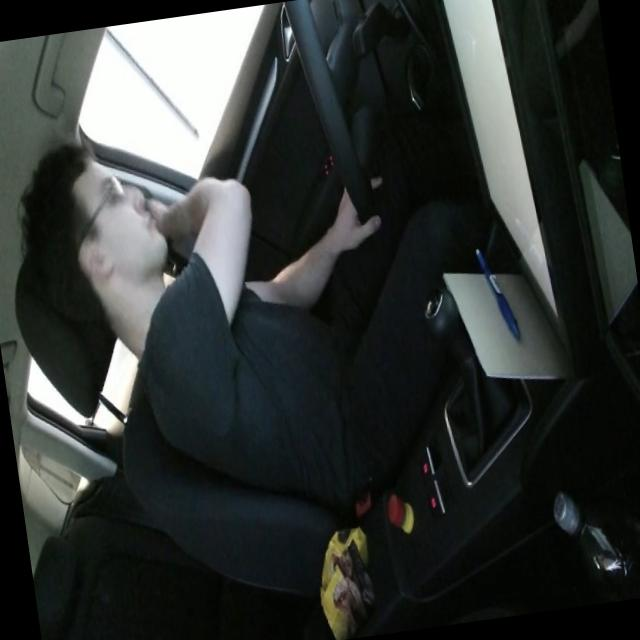pen: (474, 240, 522, 345)
